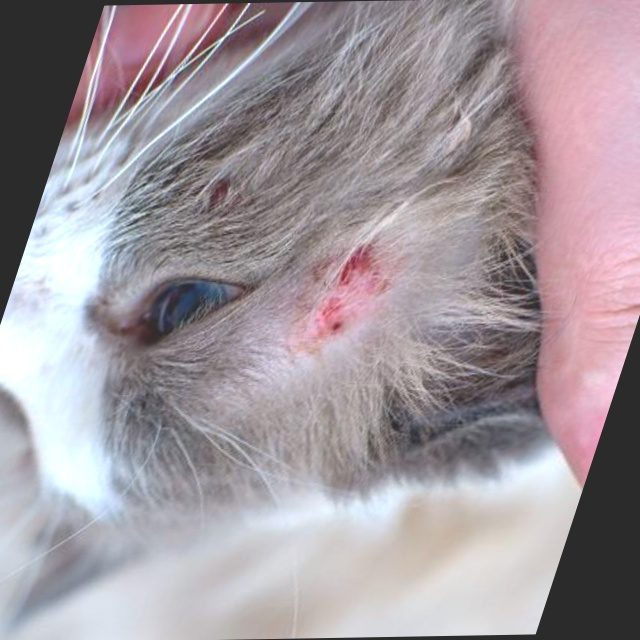ringworm: (299, 241, 405, 356)
